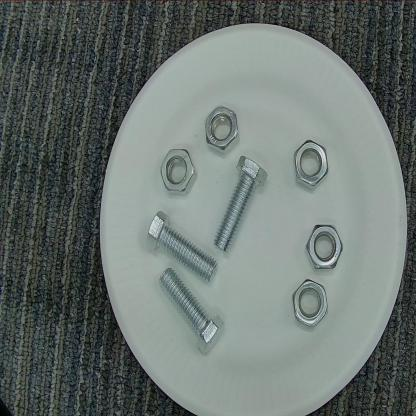FOD: (153, 269, 232, 357), (212, 154, 274, 252), (142, 208, 221, 284), (300, 222, 351, 277), (289, 135, 332, 195), (158, 143, 198, 198), (293, 276, 332, 330), (203, 105, 240, 155)
